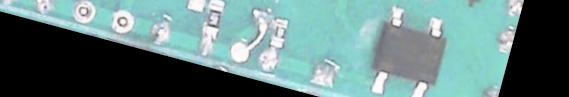chip-resistor: (198, 0, 227, 42), (267, 12, 291, 49)
ic: (362, 0, 456, 97)
